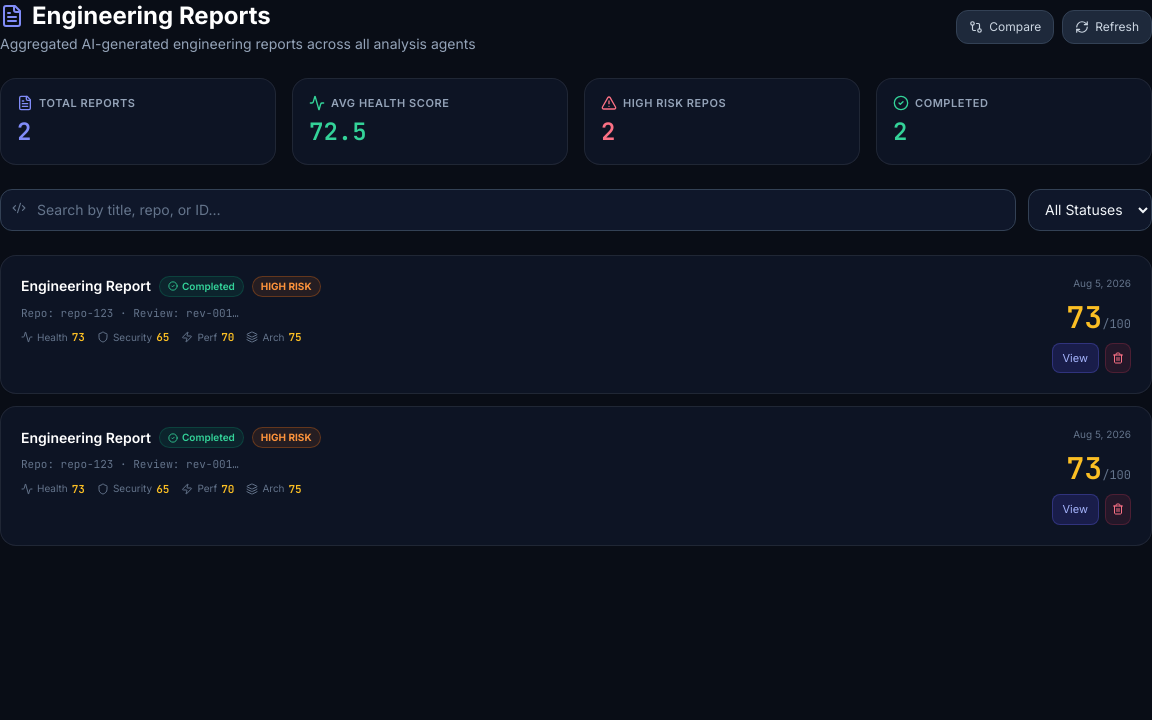
Test case: ReportsPage › comparison modal opens when Compare clicked
The image size is (1152, 720).
Click the button "Compare".
click(1005, 27)  # box [956, 10, 1054, 44]
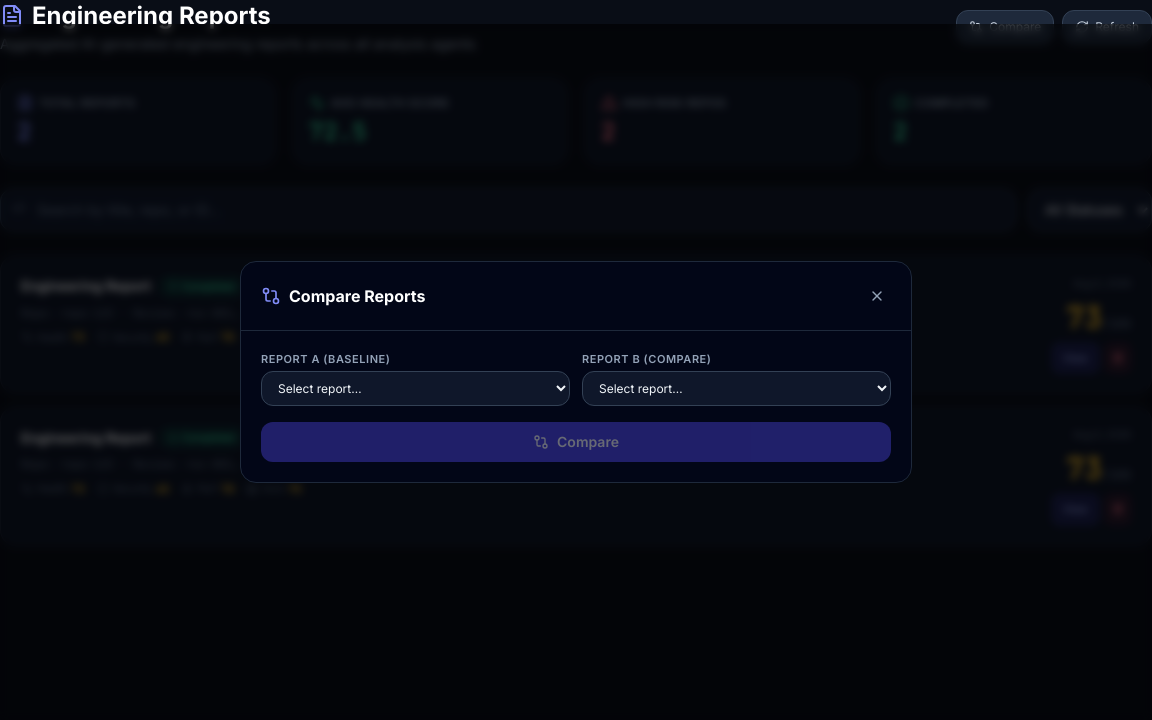
Check: the heading "Compare Reports" is shown, box [289, 284, 426, 308]
